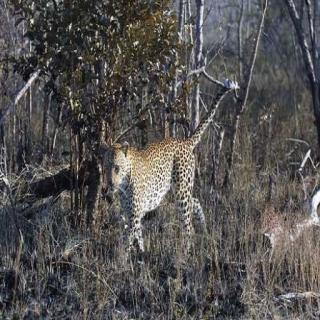Leopard: (60, 95, 235, 292)
